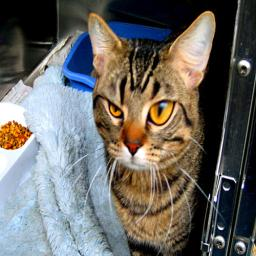catnose: (124, 140, 143, 157)
